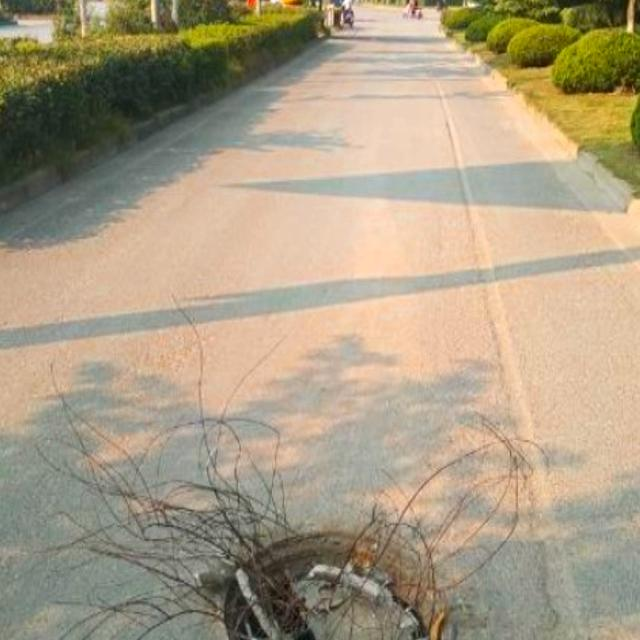broke: (215, 525, 456, 640)
